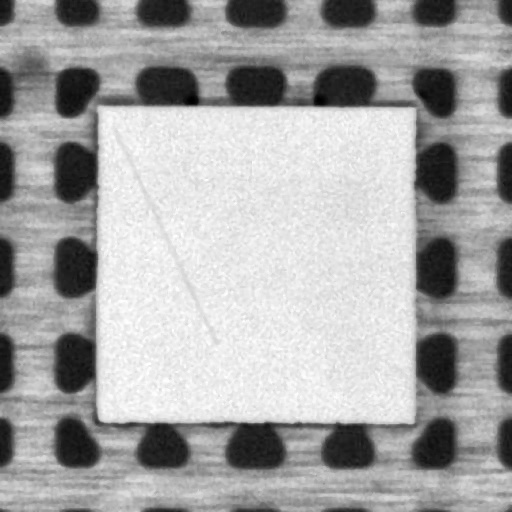DIE_CRACK: (112, 126, 215, 343)
